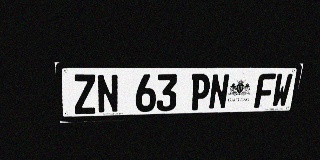3: (156, 74, 178, 111)
6: (136, 74, 157, 112)
F: (254, 73, 276, 108)
N: (96, 74, 119, 113), (208, 74, 230, 110)
P: (189, 74, 211, 110)
W: (271, 73, 293, 107)
Z: (72, 74, 97, 114)
